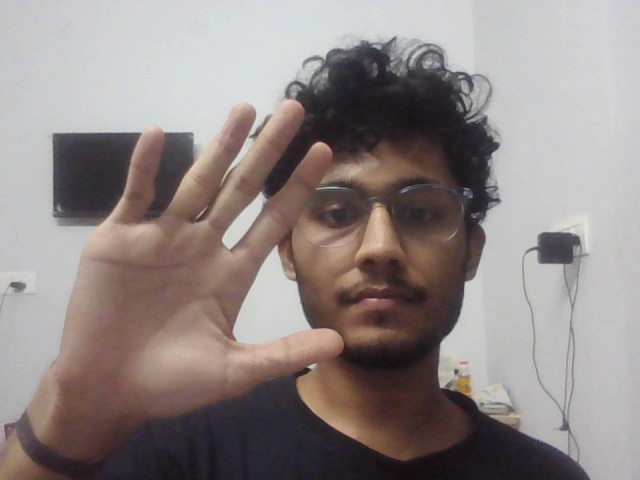Hello: (29, 87, 349, 440)
